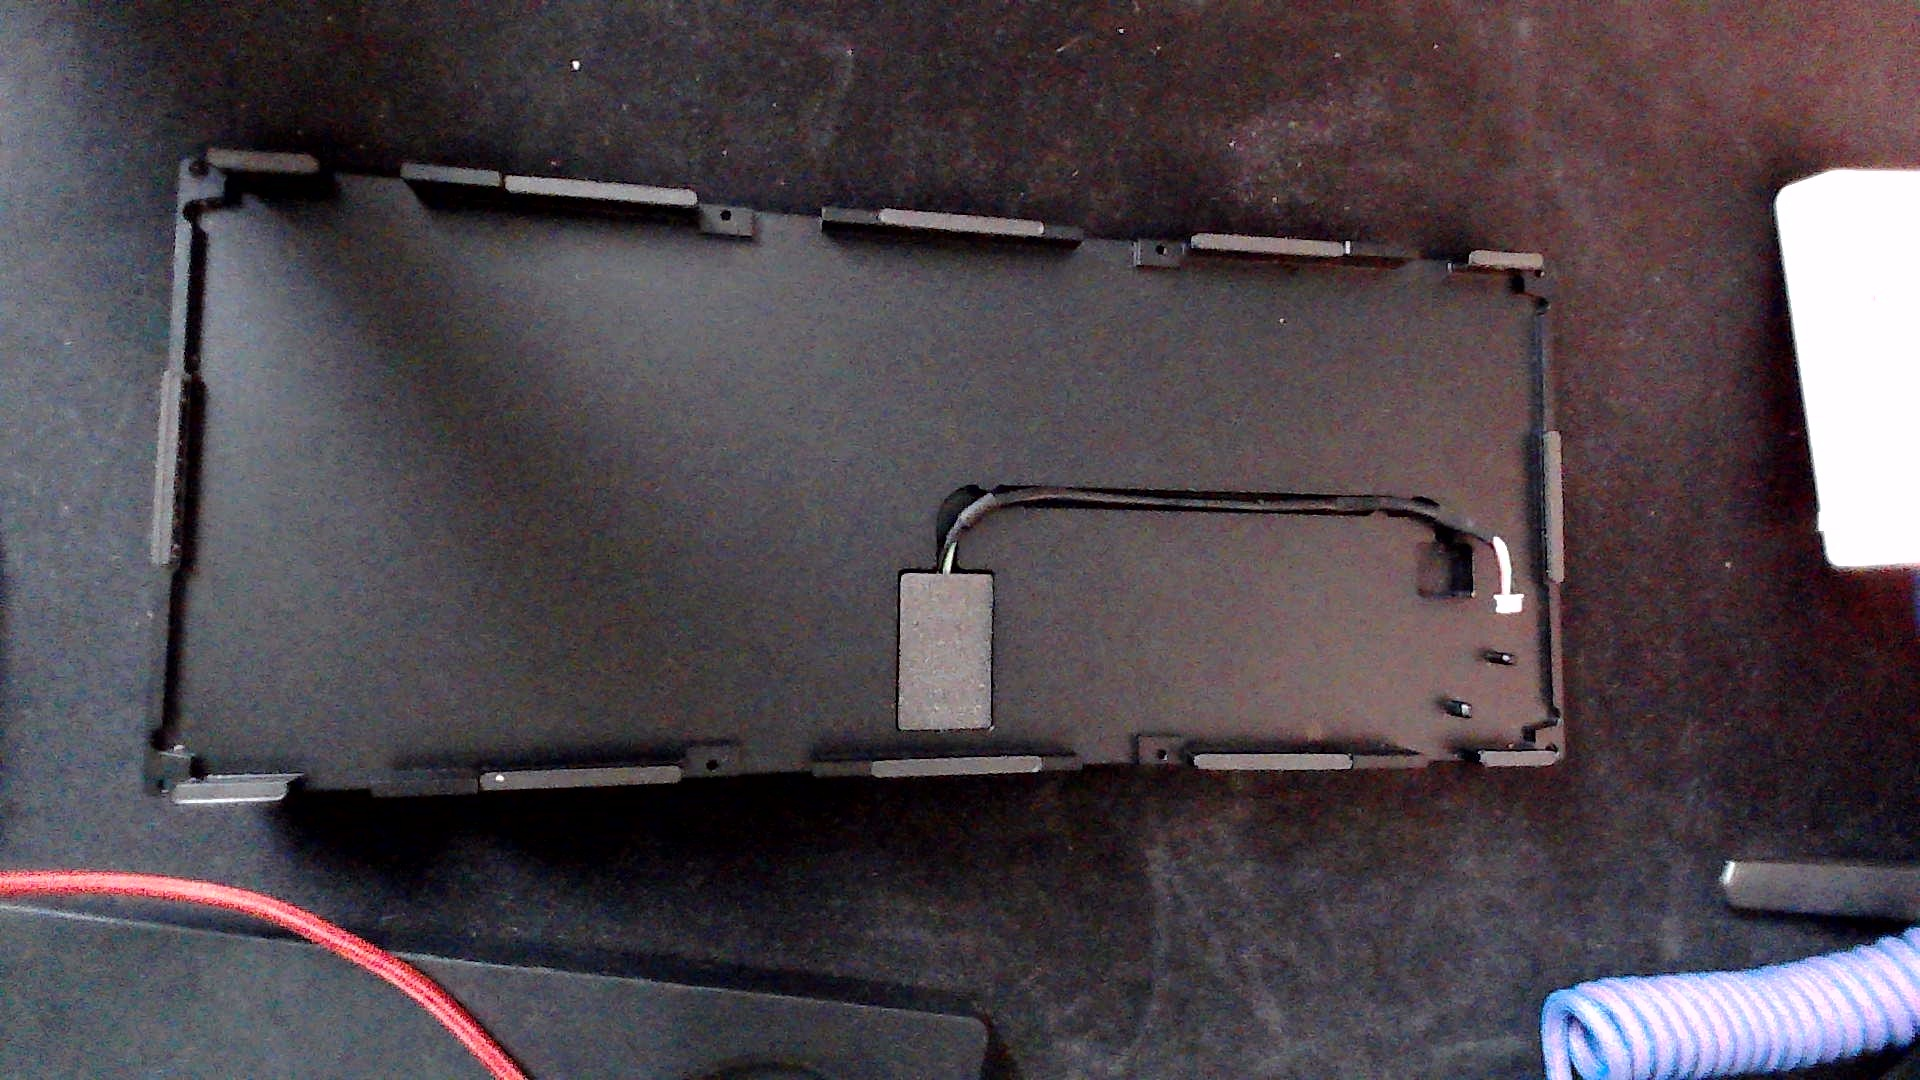case: (112, 120, 1640, 836)
